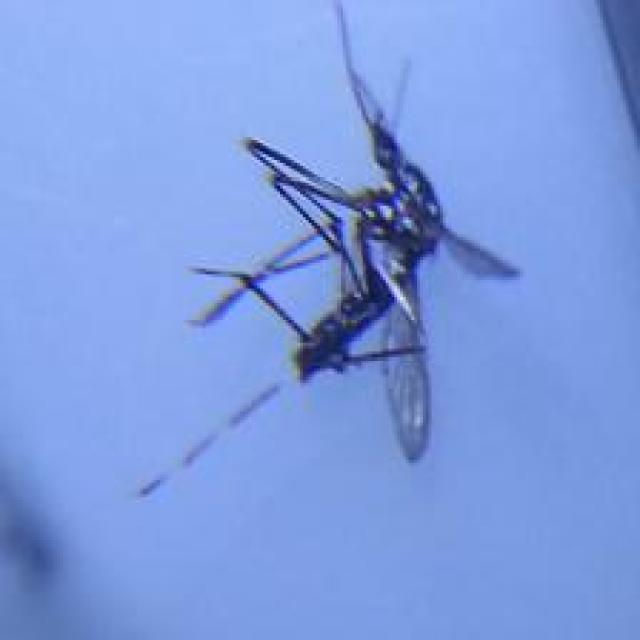Aedes albopictus: (134, 0, 523, 500)
